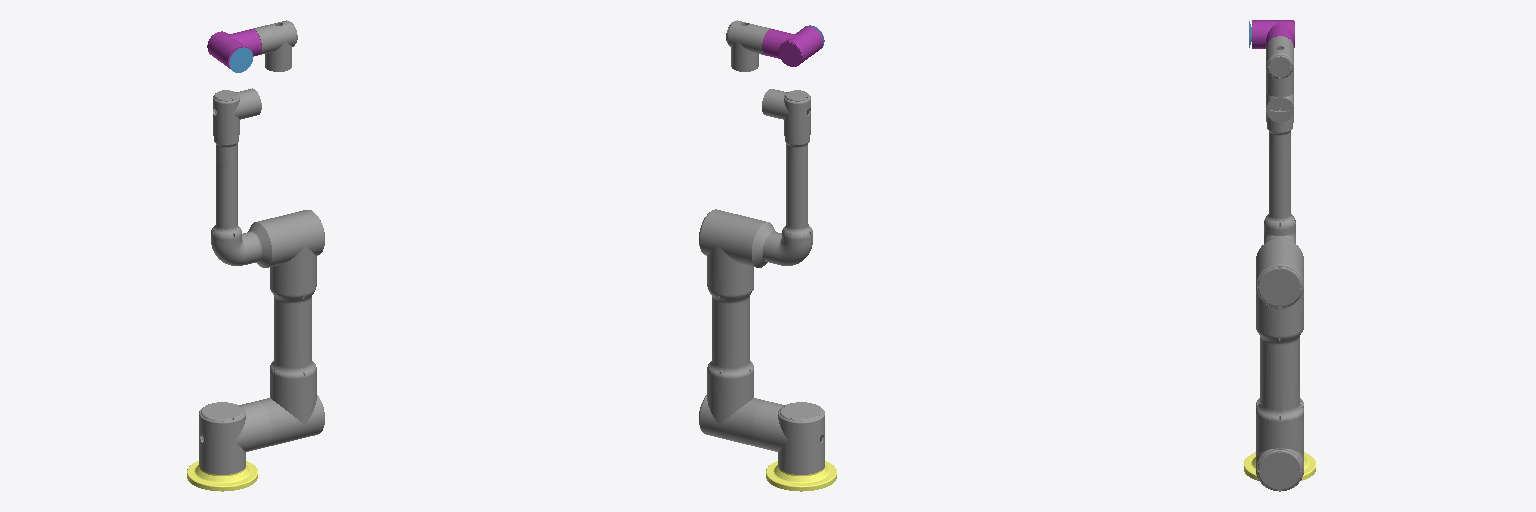
robot.urdf — ArmProject:
<?xml version="1.0"?>
<robot name="ArmProject">

  <material name="base_v1_material">
     <color rgba="1.0 1.0 0.5 1"/>
  </material>

  <material name="motor_1_v4_material">
    <color rgba="0.647059 0.647059 0.647059 1"/>
  </material>

  <material name="eslabon_r2_v3_material">
     <color rgba="0.627451 0.627451 0.627451 1"/>
  </material>

  <material name="motor_2_v2_material">
    <color rgba="0.627451 0.627451 0.627451 1"/>
  </material>

  <material name="motor_3_v1_2_material">
    <color rgba="0.627451 0.627451 0.627451 1"/>
  </material>

  <material name="codo_1_modificado_v1_material">
    <color rgba="0.627451 0.627451 0.627451 1"/>
  </material>

  <material name="eslabon_r3_v1_material">
    <color rgba="0.627451 0.627451 0.627451 1"/>
  </material>

  <material name="motor_4_v4_material">
    <color rgba="0.627451 0.627451 0.627451 1"/>
  </material>

  <material name="motor_5_v1_material">
    <color rgba="0.627451 0.627451 0.627451 1"/>
  </material>

  <material name="motor_6_v1_material">
    <color rgba="0.627451 0.627451 0.627451 1"/>
  </material>

  <material name="endEfector_material">
    <color rgba="0.7 0.3 0.7 1"/>
  </material>

  <material name="ventosa_material">
    <color rgba="0.4 0.7 0.9 1"/>
  </material>

  <link name="world"/>

  <!-- base_link -->
  <link name="base_link">
  
    <inertial>
      <origin xyz="0 0 0" rpy="0 0 0"/>
      <mass value="0.250987"/>
      <inertia ixx="0.000229101" ixy="-1.82987e-20" ixz="1.50736e-21" 
               iyy="0.000229101" iyz="-2.57961e-21" izz="0.000443337"/>
    </inertial>
    
    <visual>
      <origin xyz="0 0 0" 
              rpy="-1.06778e-17 8.97091e-18 -1.91402"/>
      <geometry>
        <mesh filename="package://ur5Model/meshes/base_v1.stl" scale="0.001 0.001 0.001"/>
      </geometry>
      <material name="base_v1_material"/>
    </visual>
    
    <collision>
      <origin xyz="0 0 0" rpy="-1.06778e-17 8.97091e-18 -1.91402"/>
      <geometry>
        <mesh filename="package://ur5Model/meshes/base_v1.stl" scale="0.001 0.001 0.001"/>
      </geometry>
    </collision>

  </link>

  <!-- Joint from world to base_link -->
  <joint name="world_to_base" type="fixed">
  
    <parent link="world"/>
    <child link="base_link"/>
    <origin xyz="0 0 0" rpy="0 0 0"/>
    
  </joint>

  <!-- motor_1_v4 -->
  <link name="motor_1_v4">
  
    <inertial>
      <origin xyz="0 0 0" rpy="0 0 0"/>
      <mass value="1.01291"/>
      <inertia ixx="0.00178232" ixy="7.18085e-11" ixz="-1.00158e-10" 
               iyy="0.00159644" iyz="-6.26257e-05" izz="0.00117134"/>
    </inertial>
    
    <visual>
      <origin xyz="0 0 0" rpy="0 0 0"/>
      <geometry>
        <mesh filename="package://ur5Model/meshes/motor_1_v4.stl" scale="0.001 0.001 0.001"/>
      </geometry>
      <material name="motor_1_v4_material"/>
    </visual>
    
    <collision>
      <origin xyz="0 0 0" rpy="0 0 0"/>
      <geometry>
        <mesh filename="package://ur5Model/meshes/motor_1_v4.stl" scale="0.001 0.001 0.001"/>
      </geometry>
    </collision>
    
  </link>

  <!-- Joint from base_link to motor_1_v4 -->
  <joint name="base_link_to_motor_1_v4" type="revolute">
  
    <origin xyz="0 0 0.038" rpy="0 0 0"/>
    <parent link="base_link"/>
    <child link="motor_1_v4"/>
    <axis xyz="0 0 1"/>
    <limit effort="10" velocity="10" 
           lower="-3.141592653589793" upper="3.141592653589793"/>
           
  </joint>

  <!-- motor_2_v2 -->
  <link name="motor_2_v2">
  
    <inertial>
      <origin xyz="0 0 0" rpy="0 0 0"/>
      <mass value="0.816866"/>
      <inertia ixx="0.00110433" ixy="2.92716e-10" ixz="7.05982e-11" 
	       iyy="0.000987213" iyz="2.20299e-05" izz="0.000921334"/>
    </inertial>
    
    <visual>
      <origin xyz="0.1055 0 0" rpy="0 -1.5708 3.1415"/>
      <geometry>
        <mesh filename="package://ur5Model/meshes/motor_2_v2.stl" scale="0.001 0.001 0.001"/>
      </geometry>
	<material name="motor_2_v2_material"/>
    </visual>
    
    <collision>
      <origin xyz="0.1055 0 0" rpy="0 -1.5708 3.1415"/>
      <geometry>
        <mesh filename="package://ur5Model/meshes/motor_2_v2.stl" scale="0.001 0.001 0.001"/>
      </geometry>
    </collision>
    
  </link>

  <!--  Joint from motor_1_v4 to motor_2_v2 -->
  <joint name="motor_1_v4_to_motor_2_v2" type="revolute">
  
    <origin xyz="0 0 0.043" rpy="0 0 0"/>
    <parent link="motor_1_v4"/>
    <child link="motor_2_v2"/>
    <axis xyz="1 0 0"/>
    <limit effort="10" velocity="10" 
	   lower="-0.35" upper="0.35"/>
	   
  </joint>

  <!-- Eslabon_r2_v3 -->
  <link name="eslabon_r2_v3">
  
    <inertial>
      <origin xyz="0 0 0" rpy="0 0 0"/>
      <mass value="0.620599"/>
      <inertia ixx="0.0030008" ixy="3.77221e-18" ixz="-4.6312e-18" 
	       iyy="0.0030008" iyz="-2.72855e-18" izz="0.000298815"/>
    </inertial>
    
    <visual>
      <origin xyz="0.1485 0 0.08" rpy="0 0 0"/>
      <geometry>
        <mesh filename="package://ur5Model/meshes/eslabon_r2_v3.stl" scale="0.001 0.001 0.001"/>
      </geometry>
	<material name="eslabon_r2_v3_material"/>
    </visual>
    
    <collision>
      <origin xyz="0.1485 0 0.08" rpy="0 0 0"/>
      <geometry>
        <mesh filename="package://ur5Model/meshes/eslabon_r2_v3.stl" scale="0.001 0.001 0.001"/>
      </geometry>
    </collision>
    
  </link>

  <!-- Joint from eslabon_r2_v3 to motor_2_v2 -->
  <joint name="motor_2_v2_to_eslabon_r2_v3" type="fixed">
  
    <origin xyz="0 0 0" rpy="0 0 0"/>
    <parent link="motor_2_v2"/>
    <child link="eslabon_r2_v3"/>
    
  </joint>

  <!-- Motor_3_v1_2 -->
  <link name="motor_3_v1_2">
  
    <inertial>
      <origin xyz="0 0 0" rpy="0 0 0"/>
      <mass value="0.816866"/>
      <inertia ixx="0.000987213" ixy="2.92716e-10" ixz="2.20299e-05" 
               iyy="0.00110433" iyz="7.05982e-11" izz="0.000921334"/>
    </inertial>
    
    <visual>
      <origin xyz="0.1055 0 0.36" rpy="0 1.5708 0"/>
      <geometry>
        <mesh filename="package://ur5Model/meshes/motor_3_v1__2.stl" scale="0.001 0.001 0.001"/>
      </geometry>
        <material name="motor_3_v1_2_material"/>
    </visual>
    
    <collision>
      <origin xyz="0.1055 0 0.36" rpy="0 1.5708 0"/>
      <geometry>
        <mesh filename="package://ur5Model/meshes/motor_3_v1__2.stl" scale="0.001 0.001 0.001"/>
      </geometry>
    </collision>
    
  </link>

  <!-- Joint from eslabon_r2_v3 to motor_3_v1_2 -->
  <joint name="eslabon_r2_v3_to_motor_3_v1_2" type="fixed">
  
    <origin xyz="0 0 0" rpy="0 0 0"/>
    <parent link="eslabon_r2_v3"/>
    <child link="motor_3_v1_2"/>
    
  </joint>

  <!-- Codo_1_modificado_v1 -->
  <link name="codo_1_modificado_v1">
  
    <inertial>
      <origin xyz="0 0 0" rpy="0 0 0"/>
      <mass value="1e-09"/>
      <inertia ixx="1e-09" ixy="0" ixz="0" 
	       iyy="1e-09" iyz="0" izz="1e-09"/>
    </inertial>
    
    <visual>
      <origin xyz="0.037 0 0" rpy="0 3.1416 1.5708"/>
      <geometry>
        <mesh filename="package://ur5Model/meshes/codo_1_modificado_v1.stl" scale="0.001 0.001 0.001"/>
      </geometry>
        <material name="codo_1_modificado_v1_material"/>
    </visual>
    
    <collision>
      <origin xyz="0.037 0 0" rpy="0 3.1416 1.5708"/>
      <geometry>
        <mesh filename="package://ur5Model/meshes/codo_1_modificado_v1.stl" scale="0.001 0.001 0.001"/>
      </geometry>
    </collision>
    
  </link>

  <!--  Joint from motor_3_v1_2 to codo_1_modificado_v1 -->
  <joint name="motor_3_v1_2_to_codo_1_modificado_v1" type="revolute">
  
    <origin xyz="0 0 0.36" rpy="0 0 0"/>
    <parent link="motor_3_v1_2"/>
    <child link="codo_1_modificado_v1"/>
    <axis xyz="1 0 0"/>
    <limit effort="10" velocity="10" 
	   lower="-0.35" upper="0.35"/>
	   
  </joint>

  <!-- Link eslabon_r3_v1 -->
  <link name="eslabon_r3_v1">
  
    <inertial>
      <origin xyz="0 0 0" rpy="0 0 0"/>
      <mass value="0.34984"/>
      <inertia ixx="0.0014369" ixy="-1.26022e-17" ixz="6.08888e-18" 
	       iyy="0.0014369" iyz="9.50174e-19" izz="7.54301e-05"/>
    </inertial>
    
    <visual>
      <origin xyz="0.0085 0 0.2425" rpy="0 3.1416 0"/>
      <geometry>
        <mesh filename="package://ur5Model/meshes/eslabon_r3_v1.stl" scale="0.001 0.001 0.001"/>
      </geometry>
        <material name="eslabon_r3_v1_material"/>
    </visual>
    
    <collision>
      <origin xyz="0.0085 0 0.2425" rpy="0 3.1416 0"/>
      <geometry>
        <mesh filename="package://ur5Model/meshes/eslabon_r3_v1.stl" scale="0.001 0.001 0.001"/>
      </geometry>
    </collision>
    
  </link>

  <!-- Joint from codo_1_modificado_v1 to eslabon_r3_v1 -->
  <joint name="codo_1_modificado_v1_to_eslabon_r3_v1 " type="fixed">
  
    <origin xyz="0 0 0" rpy="0 0 0"/>
    <parent link="codo_1_modificado_v1"/>
    <child link="eslabon_r3_v1"/>
    
  </joint>

  <!-- Link motor_4_v4 -->
  <link name="motor_4_v4">
  
    <inertial>
      <origin xyz="0 0 0" rpy="0 0 0"/>
      <mass value="0.283781"/>
      <inertia ixx="0.000261052" ixy="3.32034e-07" ixz="-1.40786e-07" 
               iyy="0.00019133" iyz="2.9564e-05" izz="0.000161552"/>
    </inertial>
    
    <visual>
      <origin xyz="0.0085 -0.014 0.28" rpy="0 0 0"/>
      <geometry>
        <mesh filename="package://ur5Model/meshes/motor_4_v4.stl" scale="0.001 0.001 0.001"/>
      </geometry>
        <material name="motor_4_v4_material"/>
    </visual>
    
    <collision>
      <origin xyz="0.0085 -0.014 0.28" rpy="0 0 0"/>
      <geometry>
        <mesh filename="package://ur5Model/meshes/motor_4_v4.stl" scale="0.001 0.001 0.001"/>
      </geometry>
    </collision>
    
  </link>

  <!-- Joint from eslabon_r3_v1 to motor_4_v4 -->
  <joint name="eslabon_r3_v1_to_motor_4_v4 " type="fixed">
  
    <origin xyz="0 0 0" rpy="0 0 0"/>
    <parent link="eslabon_r3_v1"/>
    <child link="motor_4_v4"/>
    
  </joint>

  <!-- Link motor_5_v1 -->
  <link name="motor_5_v1">
  
    <inertial>
      <origin xyz="0 0 0" rpy="0 0 0"/>
      <mass value="0.283781"/>
      <inertia ixx="0.000248879" ixy="-2.64697e-05" ixz="1.23537e-05" 
               iyy="0.000203503" iyz="2.68595e-05" izz="0.000161552"/>
    </inertial>
    
    <visual>
      <origin xyz="0.108 0.0145 0" rpy="0 -1.5708 3.1416"/>
      <geometry>
        <mesh filename="package://ur5Model/meshes/motor_5_v1.stl" scale="0.001 0.001 0.001"/>
      </geometry>
        <material name="motor_5_v1_material"/>
    </visual>
    
    <collision>
      <origin xyz="0.108 0.0145 0" rpy="0 -1.5708 3.1416"/>
      <geometry>
        <mesh filename="package://ur5Model/meshes/motor_5_v1.stl" scale="0.001 0.001 0.001"/>
      </geometry>
    </collision>
    
  </link>

  <!-- Joint from motor_4_v4 to motor_5_v1  -->
  <joint name="motor_4_v4_to_motor_5_v1" type="revolute">
  
    <origin xyz="0 0.0005 0.2905" rpy="0 0 0"/>
    <parent link="motor_4_v4"/>
    <child link="motor_5_v1"/>
    <axis xyz="1 0 0"/>
    <limit effort="10" velocity="10" lower="-0.35" upper="0.35"/>
    
  </joint>

  <!-- Link motor_6_v1 -->
  <link name="motor_6_v1">
  
    <inertial>
      <origin xyz="0 0 0" rpy="0 0 0"/>
      <mass value="0.283781"/>
      <inertia ixx="0.000224033" ixy="4.01588e-05" ixz="-3.59853e-05" 
	       iyy="0.000183912" iyz="1.30664e-05" izz="0.000205988"/>
    </inertial>
    
    <visual>
      <origin xyz="-0.01 -0.014675 0.12" rpy="0 1.5708 0"/>
      <geometry>
        <mesh filename="package://ur5Model/meshes/motor_6_v1.stl" scale="0.001 0.001 0.001"/>
      </geometry>
        <material name="motor_6_v1_material"/>
    </visual>
    
    <collision>
      <origin xyz="-0.01 -0.014675 0.12" rpy="0 1.5708 0"/>
      <geometry>
        <mesh filename="package://ur5Model/meshes/motor_6_v1.stl" scale="0.001 0.001 0.001"/>
      </geometry>
    </collision>
    
  </link>

  <!-- Joint from motor_5_v1 to motor_6_v1 -->
  <joint name="motor_5_v1_to_motor_6_v1" type="revolute">
  
    <origin xyz="0.118 0 0" rpy="0 0 0"/>
    <parent link="motor_5_v1"/>
    <child link="motor_6_v1"/>
    <axis xyz="0 0 1"/>
    <limit effort="10" velocity="10" lower="-1.57" upper="1.57"/>
    
  </joint>

  <!-- Link endEfector -->
  <link name="endEfector">
  
    <inertial>
      <origin xyz="0 0 0" rpy="0 0 0"/>
      <mass value="0.283781"/>
      <inertia ixx="0.000224033" ixy="4.01588e-05" ixz="-3.59853e-05" 
	       iyy="0.000183912" iyz="1.30664e-05" izz="0.000205988"/>
    </inertial>
    
    <visual>
      <origin xyz="-0.11 -0.0251 0" rpy="0 0 0"/>
      <geometry>
        <mesh filename="package://ur5Model/meshes/endEfector.stl"/>
      </geometry>
        <material name="endEfector_material"/>
    </visual>
    
    <collision>
      <origin xyz="-0.11 -0.0251 0" rpy="0 0 0"/>
      <geometry>
        <mesh filename="package://ur5Model/meshes/endEfector.stl"/>
      </geometry>
    </collision>
    
  </link>

  <!-- Joint from motor_6_v1 to endEfector -->
  <joint name="motor_6_v1_to_endEfector" type="revolute">
  
    <origin xyz="0 0 0.12" rpy="0 0 0"/>
    <parent link="motor_6_v1"/>
    <child link="endEfector"/>
    <axis xyz="1 0 0"/>
    <limit effort="10" velocity="10" lower="-3.141592653589793" upper="3.141592653589793"/>
    
  </joint>

  <!-- ventosa-->
  <link name="ventosa">
  
    <inertial>
      <origin xyz="0 0 0" rpy="0 0 0"/>
      <mass value="0.34984"/>
      <inertia ixx="0.0014369" ixy="-1.26022e-17" ixz="6.08888e-18" 
	       iyy="0.0014369" iyz="9.50174e-19" izz="7.54301e-05"/>
    </inertial>
    
    <visual>
      <origin xyz="0 0 0" rpy="-1.5708 0 0"/>
      <geometry>
        <mesh filename="package://ur5Model/meshes/ventosa.stl" scale="0.0005 0.0005 0.0005"/>
      </geometry>
        <material name="ventosa_material"/>
    </visual>
    
    <collision>
      <origin xyz="0 0 0" rpy="-1.5708 0 0"/>
      <geometry>
        <mesh filename="package://ur5Model/meshes/ventosa.stl" scale="0.0005 0.0005 0.0005"/>
      </geometry>
    </collision>
    
  </link>

  <!-- Joint from endEfector to ventosa -->
  <joint name="endEfector_to_ventosa " type="fixed">
  
    <origin xyz="-0.11 -0.055 0" rpy="0 0 0"/>
    <parent link="endEfector"/>
    <child link="ventosa"/>
    
  </joint>

</robot>

--- Render facts (derived) ---
Views: 3 orthographic renders of the robot side by side, from view 1: azimuth 30°, elevation 25°; view 2: azimuth 150°, elevation 25°; view 3: azimuth 270°, elevation 25°.
Model ArmProject with 13 links and 12 joints (6 revolute, 6 fixed), rooted at world, posed all joints at 0.
Visible links, largest first — view 1: motor_1_v4, eslabon_r2_v3, motor_3_v1_2, motor_2_v2, eslabon_r3_v1, motor_4_v4, codo_1_modificado_v1, motor_6_v1, base_link, endEfector; view 2: motor_1_v4, eslabon_r2_v3, motor_3_v1_2, motor_2_v2, eslabon_r3_v1, motor_4_v4, endEfector, codo_1_modificado_v1, motor_6_v1, base_link; view 3: eslabon_r2_v3, motor_3_v1_2, motor_2_v2, eslabon_r3_v1, motor_6_v1, endEfector, motor_4_v4, base_link.
Link boxes in pixels (bbox=[...]): motor_1_v4: bbox=[199, 401, 271, 474]; eslabon_r2_v3: bbox=[270, 278, 316, 386]; motor_3_v1_2: bbox=[258, 210, 324, 286]; motor_2_v2: bbox=[258, 378, 324, 446]; eslabon_r3_v1: bbox=[211, 136, 241, 243]; motor_4_v4: bbox=[213, 88, 261, 139]; codo_1_modificado_v1: bbox=[211, 222, 271, 267]; motor_6_v1: bbox=[253, 20, 297, 71]; base_link: bbox=[187, 461, 257, 491]; endEfector: bbox=[207, 29, 261, 68]; motor_1_v4: bbox=[752, 401, 824, 474]; eslabon_r2_v3: bbox=[707, 278, 753, 386]; motor_3_v1_2: bbox=[699, 209, 765, 286]; motor_2_v2: bbox=[699, 378, 765, 446]; eslabon_r3_v1: bbox=[782, 137, 812, 243]; motor_4_v4: bbox=[762, 89, 810, 139]; endEfector: bbox=[762, 26, 822, 66]; codo_1_modificado_v1: bbox=[752, 222, 812, 267]; motor_6_v1: bbox=[726, 20, 770, 71]; base_link: bbox=[766, 461, 836, 491]; eslabon_r2_v3: bbox=[1256, 320, 1303, 428]; motor_3_v1_2: bbox=[1256, 239, 1303, 327]; motor_2_v2: bbox=[1256, 422, 1303, 491]; eslabon_r3_v1: bbox=[1264, 124, 1295, 233]; motor_6_v1: bbox=[1266, 36, 1293, 96]; endEfector: bbox=[1252, 20, 1294, 48]; motor_4_v4: bbox=[1266, 92, 1293, 126]; base_link: bbox=[1244, 452, 1315, 480].
Size in the robot's own frame: 0.2595 by 0.13 by 0.8815 metres.
11 mesh visuals loaded from 12 distinct referenced files (11 binary STL); not drawn: 1 (reference not matched to a file when rendering).